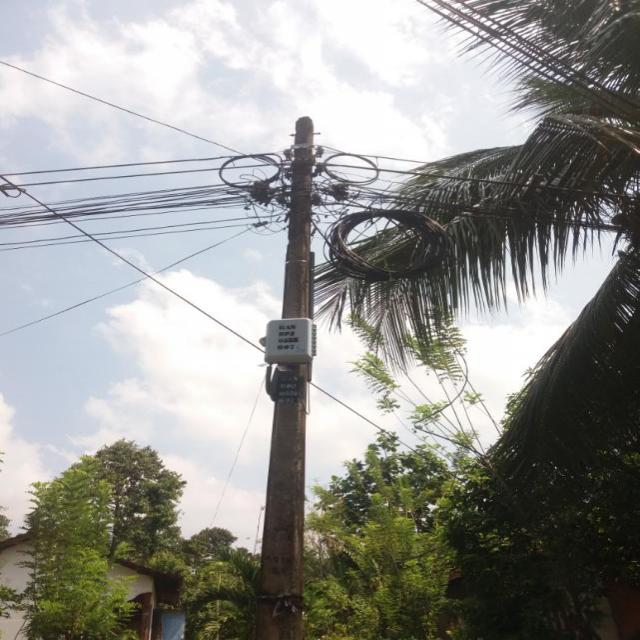light_pole: (246, 114, 330, 640)
